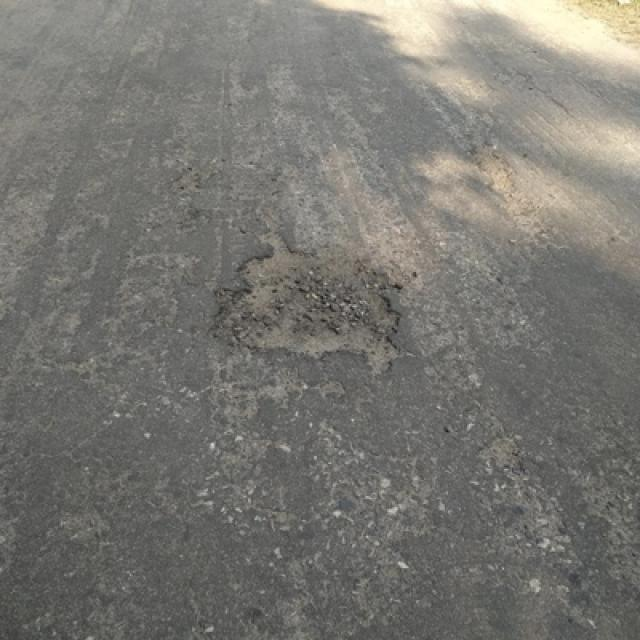Pothole: (203, 236, 414, 374), (472, 434, 525, 475)
